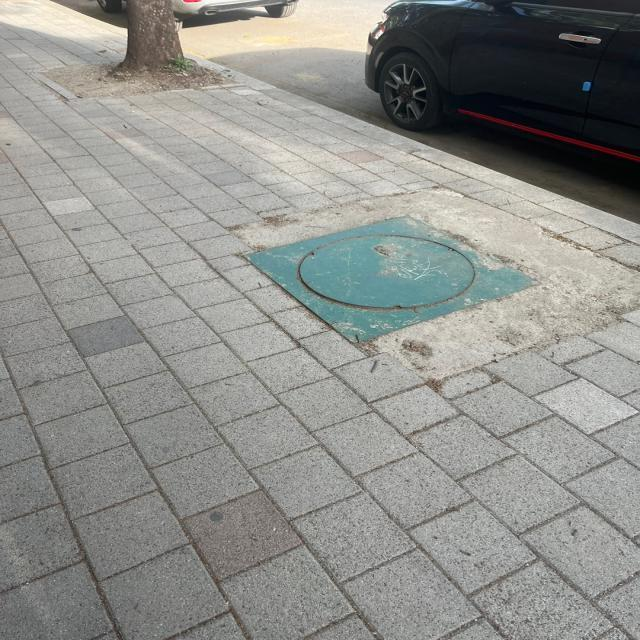Sewer Cover: (210, 197, 554, 371)
